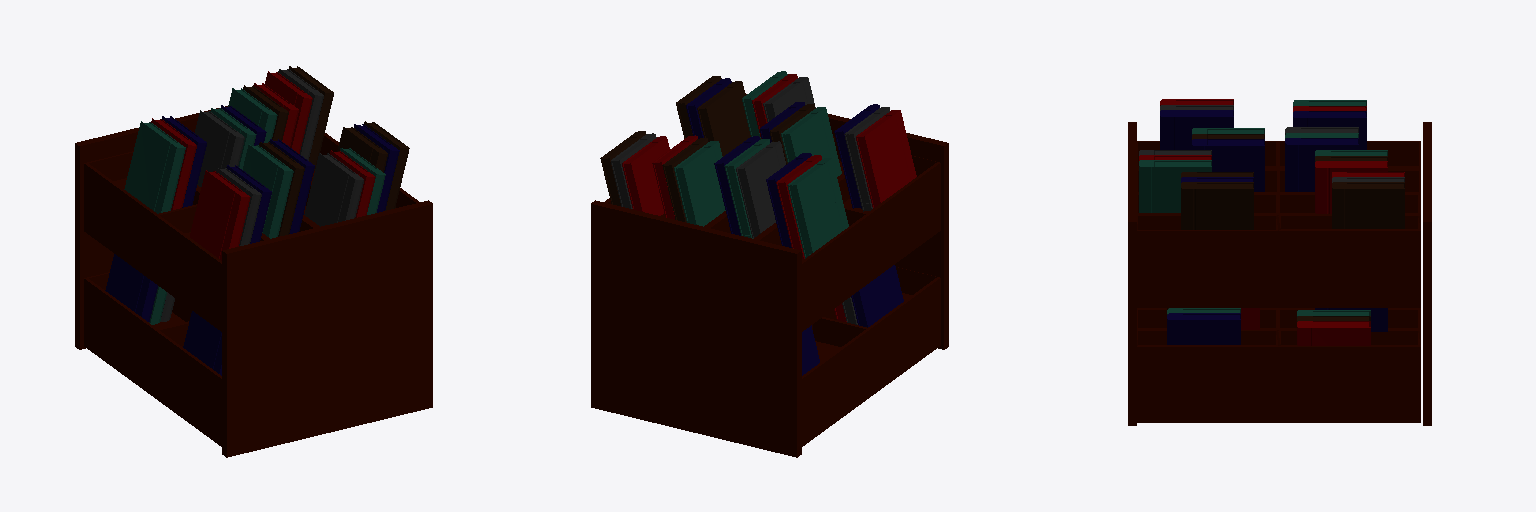
Rendered from kleineboekenkast.obj.
3 views of the same model, side by side, from view 1: azimuth 30°, elevation 25°; view 2: azimuth 150°, elevation 25°; view 3: azimuth 270°, elevation 25° (orthographic).
Parts seen in each view (by area): view 1: Cube_Cube.005, Cube.018_Cube.021, Cube.021_Cube.024, Cube.027_Cube.030, Cube.024_Cube.027, Cube.015_Cube.018, Cube.044_Cube.047, Cube.038_Cube.041, Cube.014, Cube.009_Cube.015, Cube.025_Cube.028, Cube.019_Cube.022 (+14 smaller); view 2: Cube_Cube.005, Cube.018_Cube.021, Cube.021_Cube.024, Cube.009_Cube.015, Cube.015_Cube.018, Cube.005_Cube, Cube.014, Cube.024_Cube.027, Cube.038_Cube.041, Cube.022_Cube.025, Cube.016_Cube.019, Cube.019_Cube.022 (+14 smaller); view 3: Cube_Cube.005, Cube.008, Cube.012, Cube.029_Cube.032, Cube.039_Cube.042, Cube.026_Cube.029, Cube.017_Cube.020, Cube.023_Cube.026, Cube.050_Cube.053, Cube.011_Cube.017, Cube.020_Cube.023.
Boxes of the visible parts, x1,y1,x2,y2 form: Cube_Cube.005: [75, 106, 432, 457]; Cube.018_Cube.021: [124, 121, 185, 213]; Cube.021_Cube.024: [190, 170, 250, 260]; Cube.027_Cube.030: [304, 153, 363, 226]; Cube.024_Cube.027: [243, 144, 293, 238]; Cube.015_Cube.018: [195, 110, 244, 186]; Cube.044_Cube.047: [105, 254, 157, 321]; Cube.038_Cube.041: [183, 311, 221, 375]; Cube.014: [265, 71, 312, 153]; Cube.009_Cube.015: [228, 88, 277, 142]; Cube.025_Cube.028: [259, 142, 304, 236]; Cube.019_Cube.022: [151, 118, 196, 210]; Cube_Cube.005: [591, 93, 948, 457]; Cube.018_Cube.021: [787, 158, 848, 258]; Cube.021_Cube.024: [856, 110, 916, 208]; Cube.009_Cube.015: [674, 141, 725, 226]; Cube.015_Cube.018: [736, 141, 785, 238]; Cube.005_Cube: [697, 81, 750, 156]; Cube.014: [622, 136, 669, 215]; Cube.024_Cube.027: [781, 107, 841, 176]; Cube.038_Cube.041: [851, 265, 903, 327]; Cube.022_Cube.025: [844, 107, 889, 211]; Cube.016_Cube.019: [724, 139, 769, 238]; Cube.019_Cube.022: [776, 155, 821, 258]; Cube_Cube.005: [1128, 122, 1431, 425]; Cube.008: [1181, 182, 1253, 229]; Cube.012: [1332, 182, 1404, 228]; Cube.029_Cube.032: [1139, 160, 1211, 212]; Cube.039_Cube.042: [1167, 313, 1240, 344]; Cube.026_Cube.029: [1192, 139, 1264, 191]; Cube.017_Cube.020: [1285, 138, 1358, 191]; Cube.023_Cube.026: [1160, 110, 1233, 149]; Cube.050_Cube.053: [1297, 321, 1370, 345]; Cube.011_Cube.017: [1315, 161, 1387, 213]; Cube.020_Cube.023: [1293, 111, 1366, 149].
Bounding box in the file's own units: 1.38 × 1.51 × 1.72.